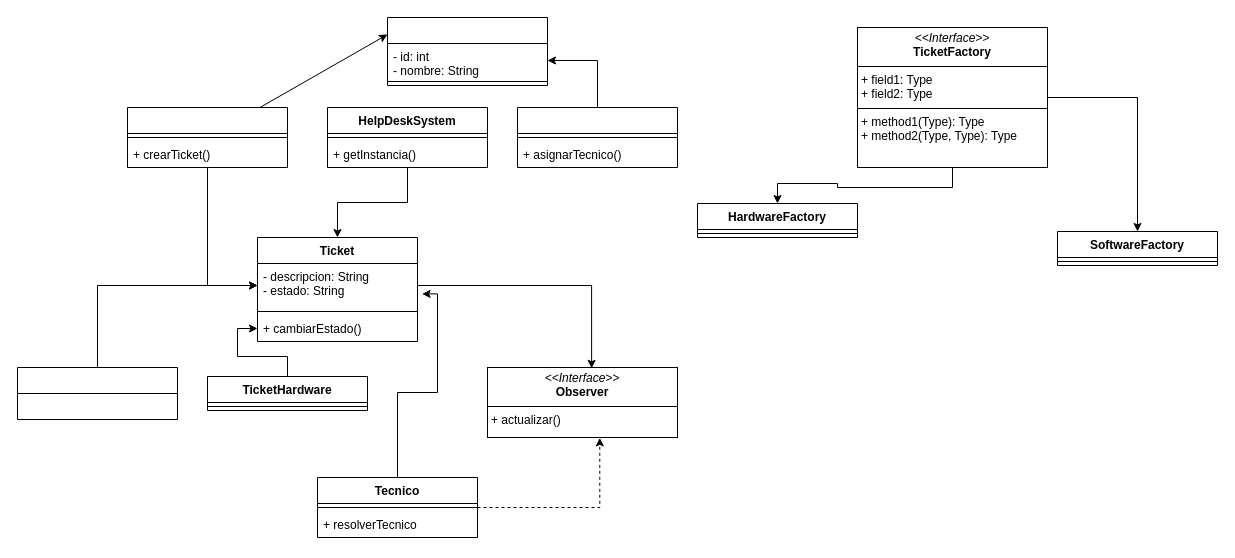
The diagram is 1235 pixels wide and 558 high, and some of its shapes have lost their labels. The shapes that lost their labels are listed below. From the top down, each one's box as (x1, y1, x2, y2) in pixels, then its label:
(386, 16, 548, 86): Usuario
(126, 106, 288, 168): UsuarioFinal
(516, 106, 678, 168): Administrador
(16, 366, 178, 420): TicketSoftware
